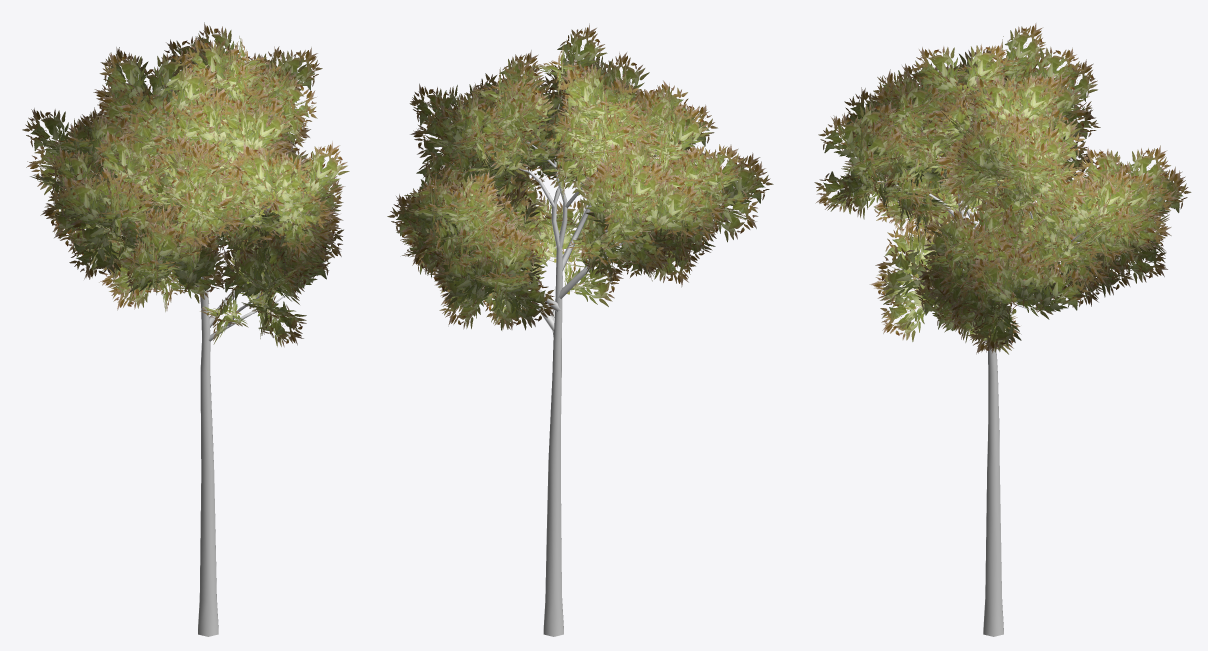
Rendered from Eucalpyt.fbx.
The picture shows the model from 3 angles, left to right: view 1: azimuth 30°, elevation 25°; view 2: azimuth 150°, elevation 25°; view 3: azimuth 270°, elevation 25°; orthographic projection. The views are drawn at different scales.
Visible parts, largest first — view 1: Plane.001, Eucalypt; view 2: Plane.001, Eucalypt; view 3: Plane.001, Eucalypt.
Part boxes in pixels (<box>): Plane.001: <box>22,22,349,347</box>; Eucalypt: <box>91,97,295,636</box>; Plane.001: <box>387,23,773,330</box>; Eucalypt: <box>481,90,659,636</box>; Plane.001: <box>814,23,1191,354</box>; Eucalypt: <box>859,93,1090,636</box>.
Size of the model in its own units: 4211 by 7475 by 4469.
